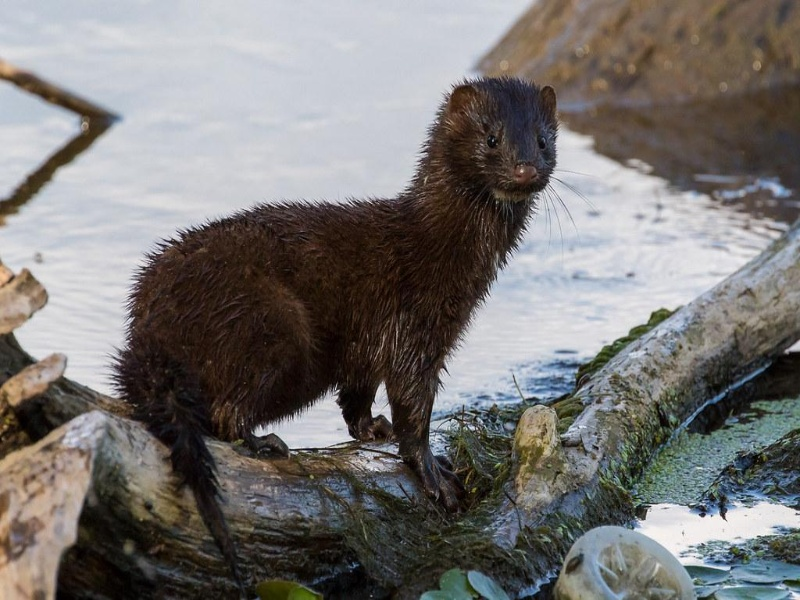minkish: (111, 75, 560, 575)
